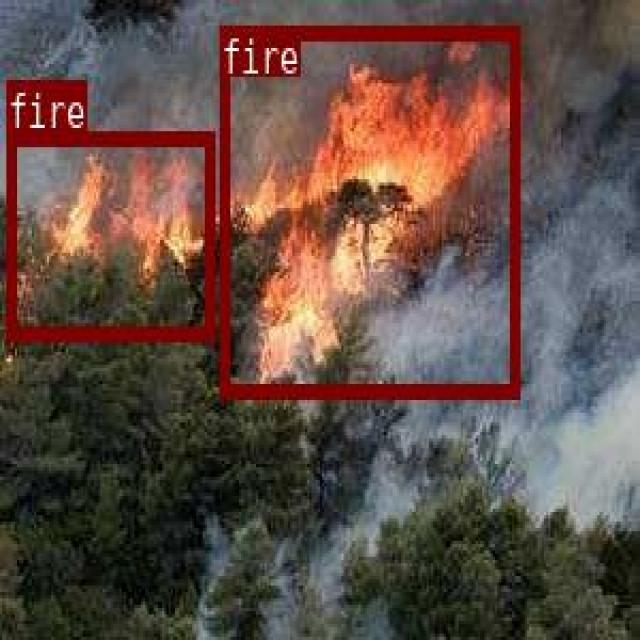fire: (220, 25, 519, 396), (5, 130, 212, 336)
